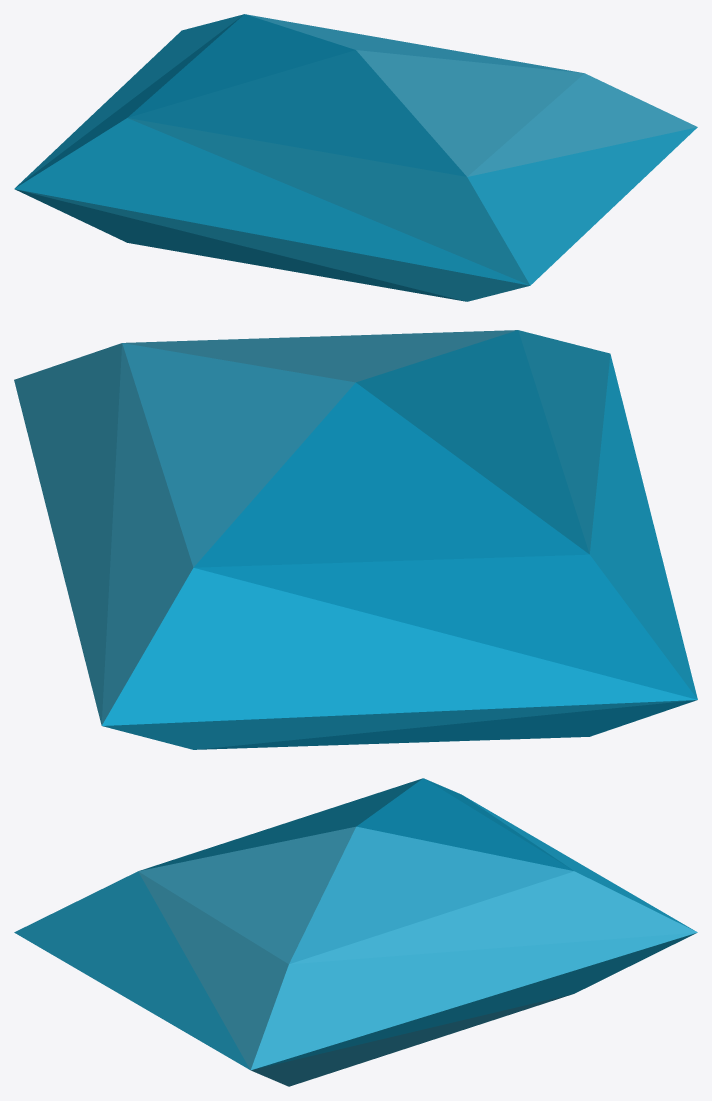
File: prop_treasure_gem_sapphire_1.fbx
The picture shows the model from 3 angles, top to bottom: view 1: azimuth 30°, elevation 25°; view 2: azimuth 150°, elevation 25°; view 3: azimuth 270°, elevation 25°; orthographic projection. The views are drawn at different scales.
Visible parts, largest first — view 1: prop_treasure_gem_sapphire_1; view 2: prop_treasure_gem_sapphire_1; view 3: prop_treasure_gem_sapphire_1.
Boxes of the visible parts, x1,y1,x2,y2 form: prop_treasure_gem_sapphire_1: [14, 14, 697, 301]; prop_treasure_gem_sapphire_1: [14, 330, 697, 749]; prop_treasure_gem_sapphire_1: [14, 778, 697, 1086].
Size of the model in its own units: 0.4772 by 0.1708 by 0.5001.
